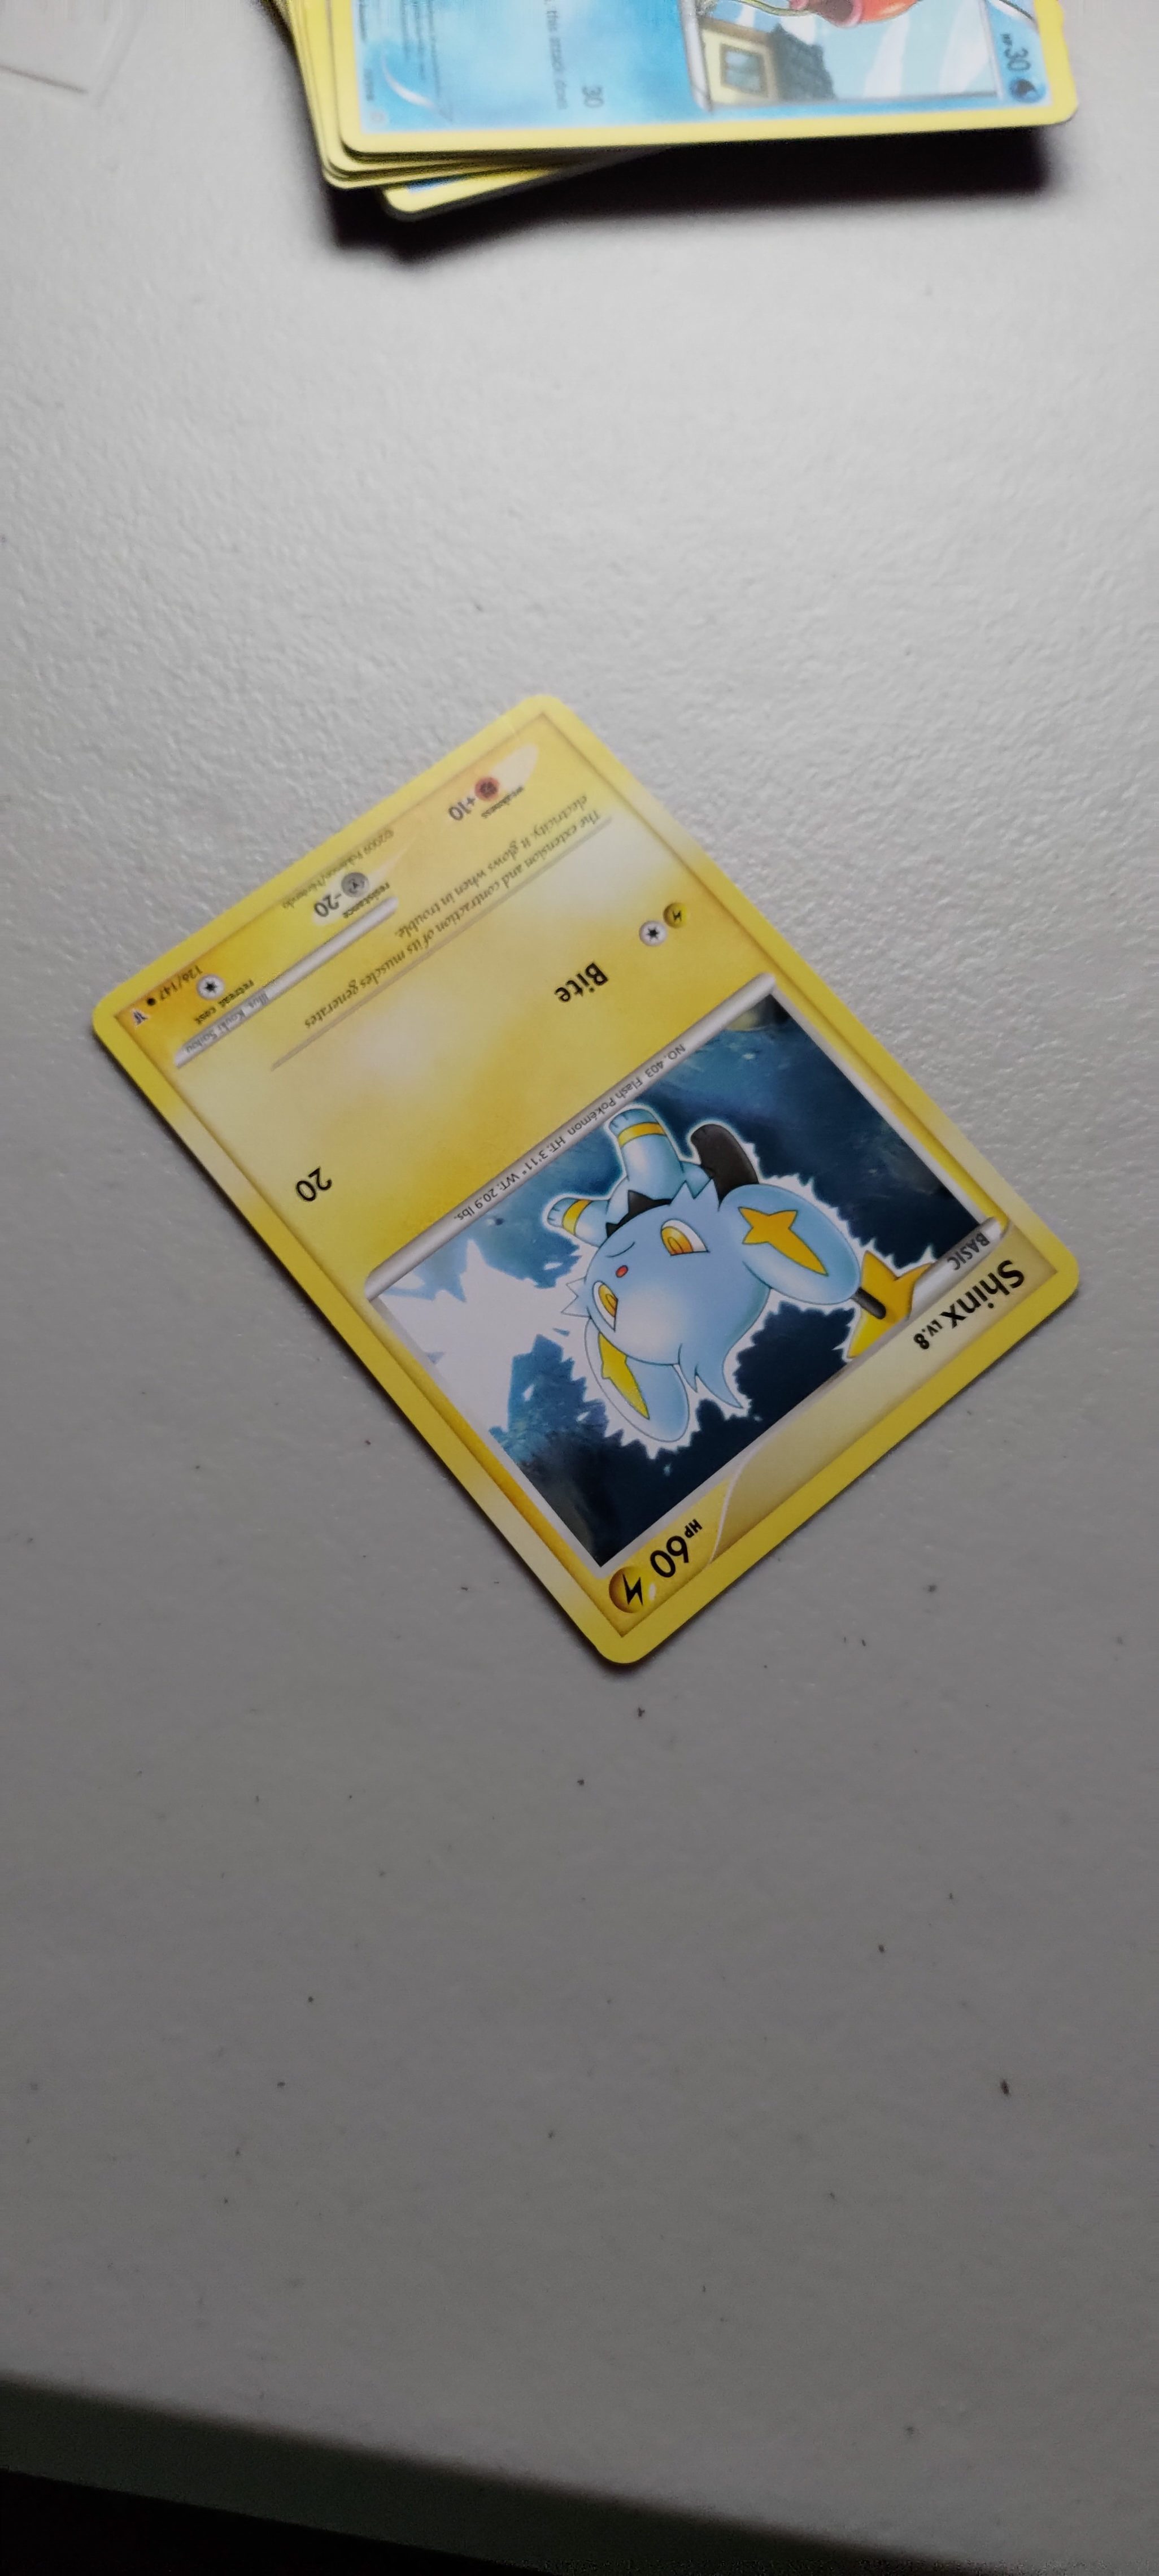pokemon_card: (48, 1005, 699, 1897)
